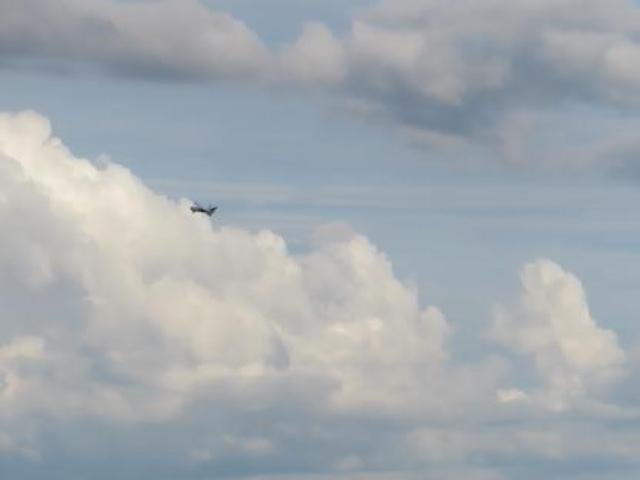uav: (189, 197, 220, 221)
